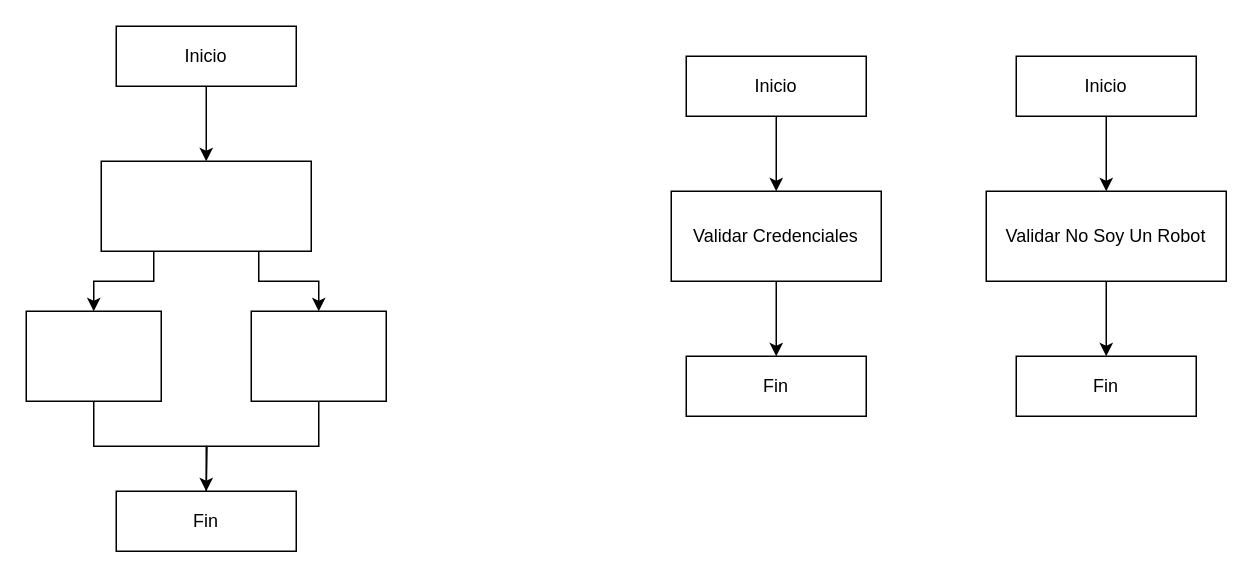
Some shapes in this 1253 by 578 pixel diagram are drawn without their labels. Each missing label, with the centre of its shape:
"Contraseña" belongs at (x=318, y=355).
"Introducir Datos" belongs at (x=205, y=205).
"Usuario" belongs at (x=93, y=355).
